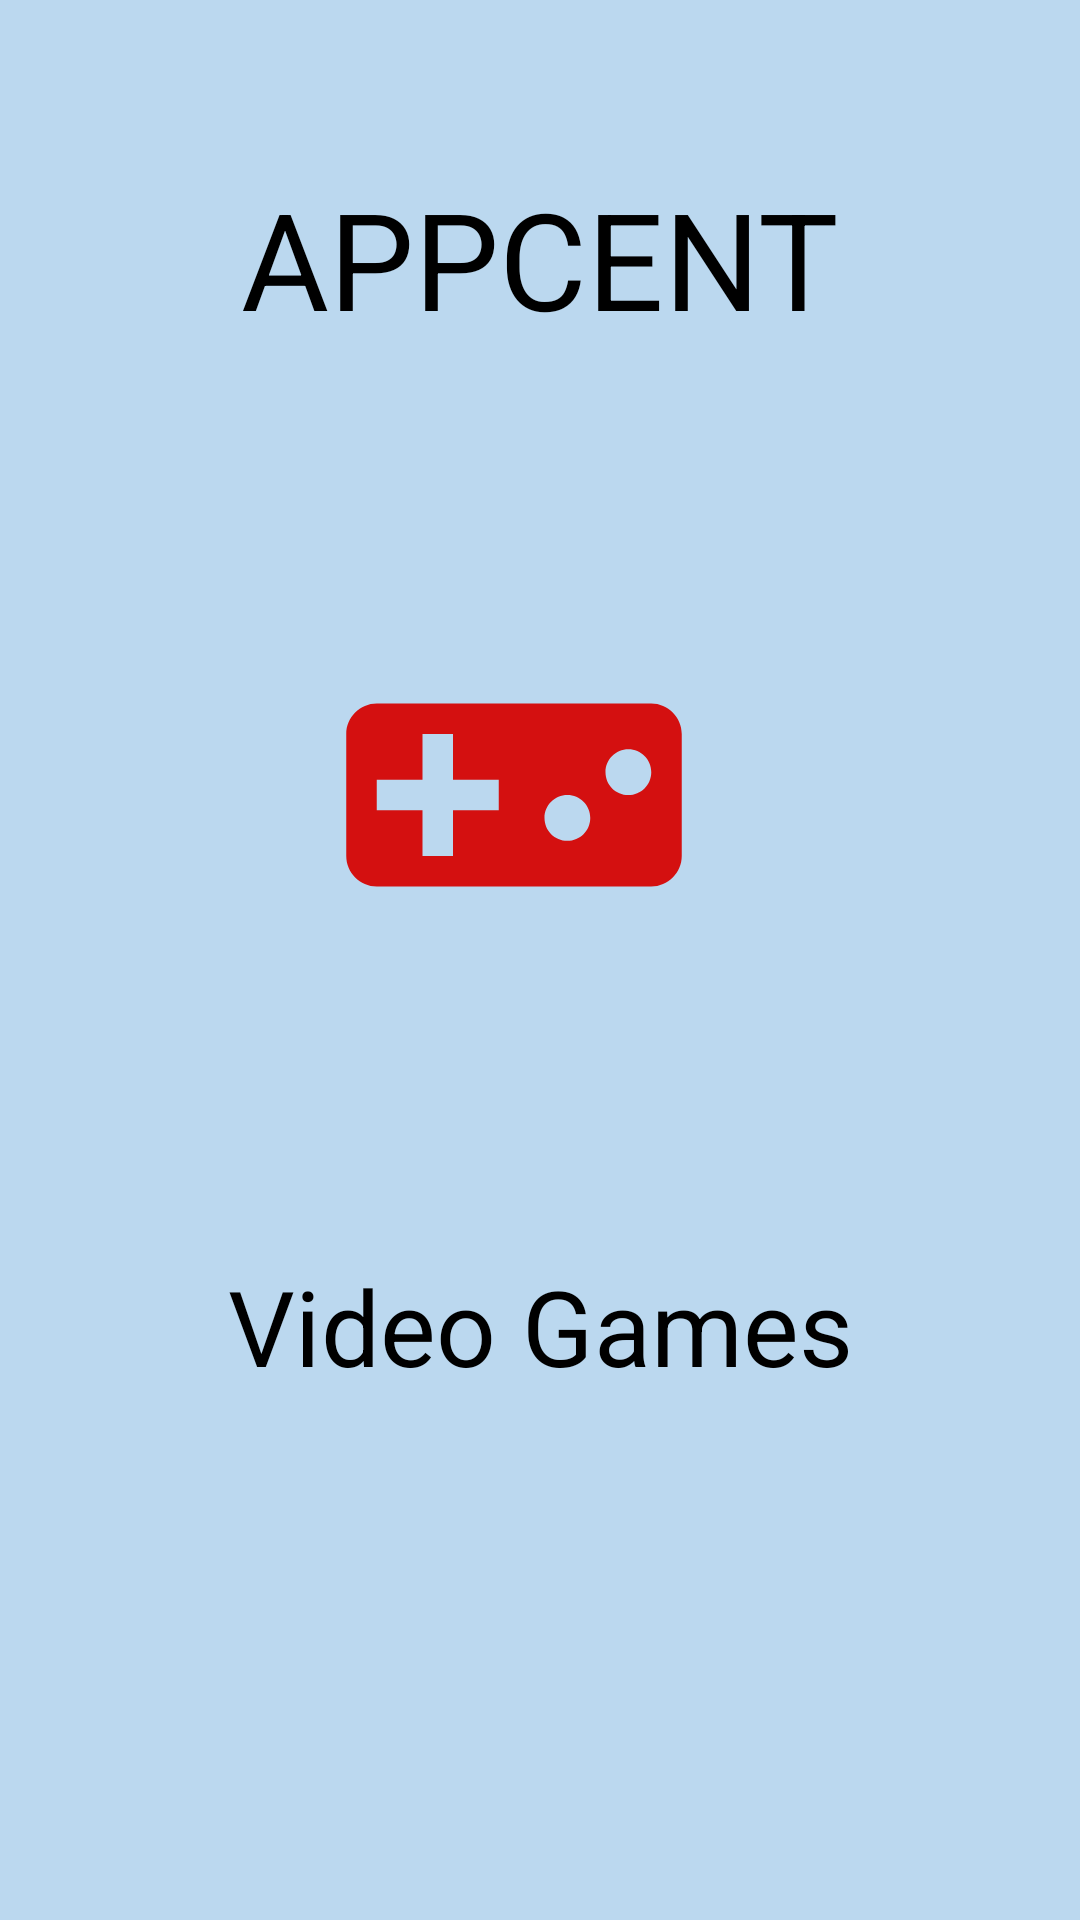

Point at icon controls on the screen. Image size 1080px×1920px, points as point (x, y).
videogame: point (514, 795)
